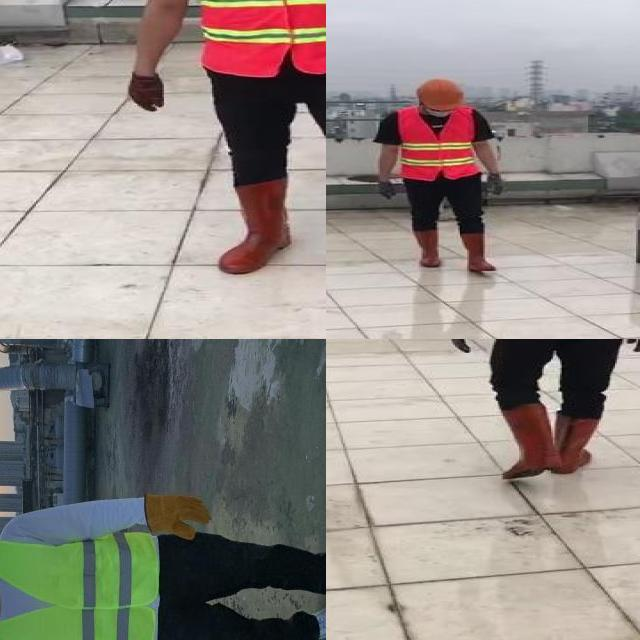boots: (216, 180, 290, 274), (496, 405, 560, 480), (554, 415, 604, 473), (458, 232, 494, 273), (408, 229, 442, 268), (304, 596, 326, 640)
hand_glove: (130, 72, 170, 114), (485, 172, 504, 195), (378, 180, 396, 200), (449, 339, 476, 350)
head_helmet: (416, 77, 464, 110)
person: (101, 0, 326, 298), (0, 471, 326, 640), (441, 339, 640, 494), (371, 78, 515, 274)
vest: (0, 531, 161, 640), (178, 0, 326, 73), (392, 104, 482, 181)
